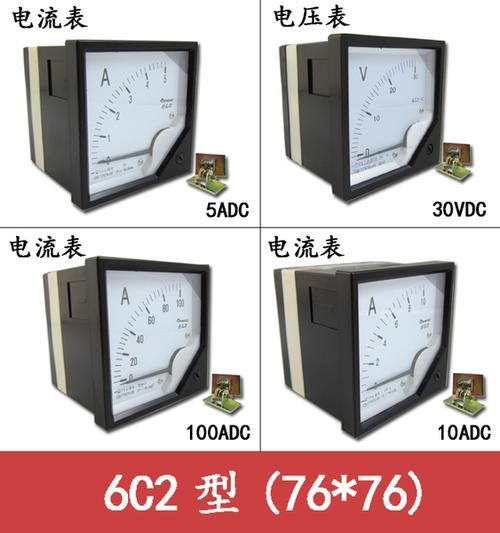pointer: (85, 50, 188, 198), (104, 269, 203, 417), (357, 274, 445, 417), (348, 45, 437, 184)
